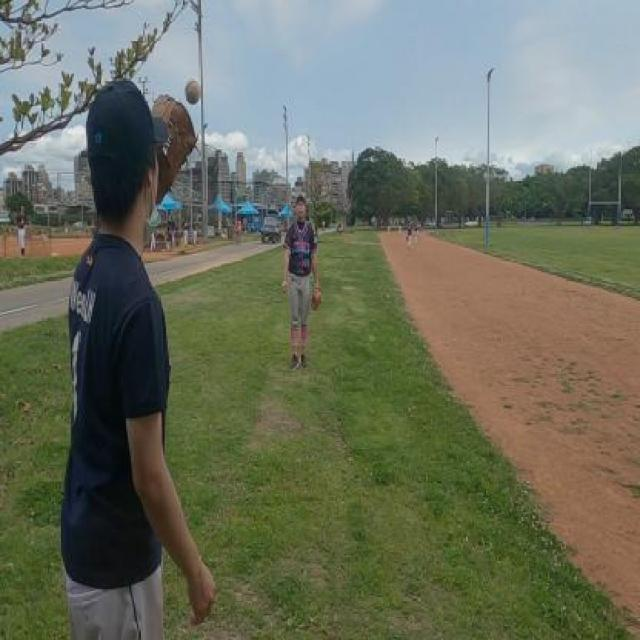baseball: (185, 78, 200, 105)
